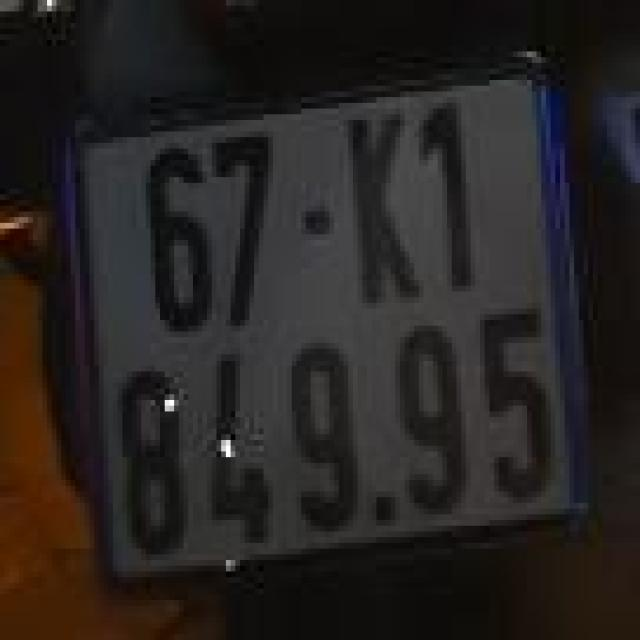1: (417, 97, 482, 297)
4: (205, 348, 280, 548)
5: (476, 308, 556, 508)
6: (141, 143, 217, 343)
7: (212, 134, 273, 329)
8: (115, 366, 191, 566)
9: (393, 320, 468, 514), (287, 346, 362, 534)
K: (339, 109, 423, 308)
